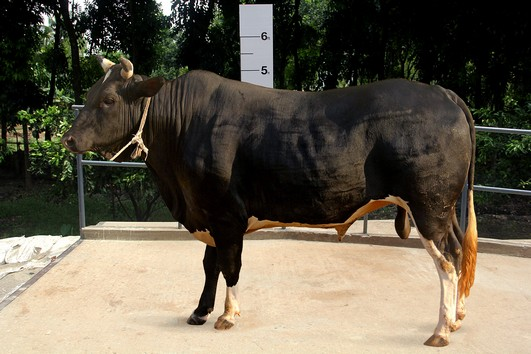cow: (62, 50, 484, 349)
